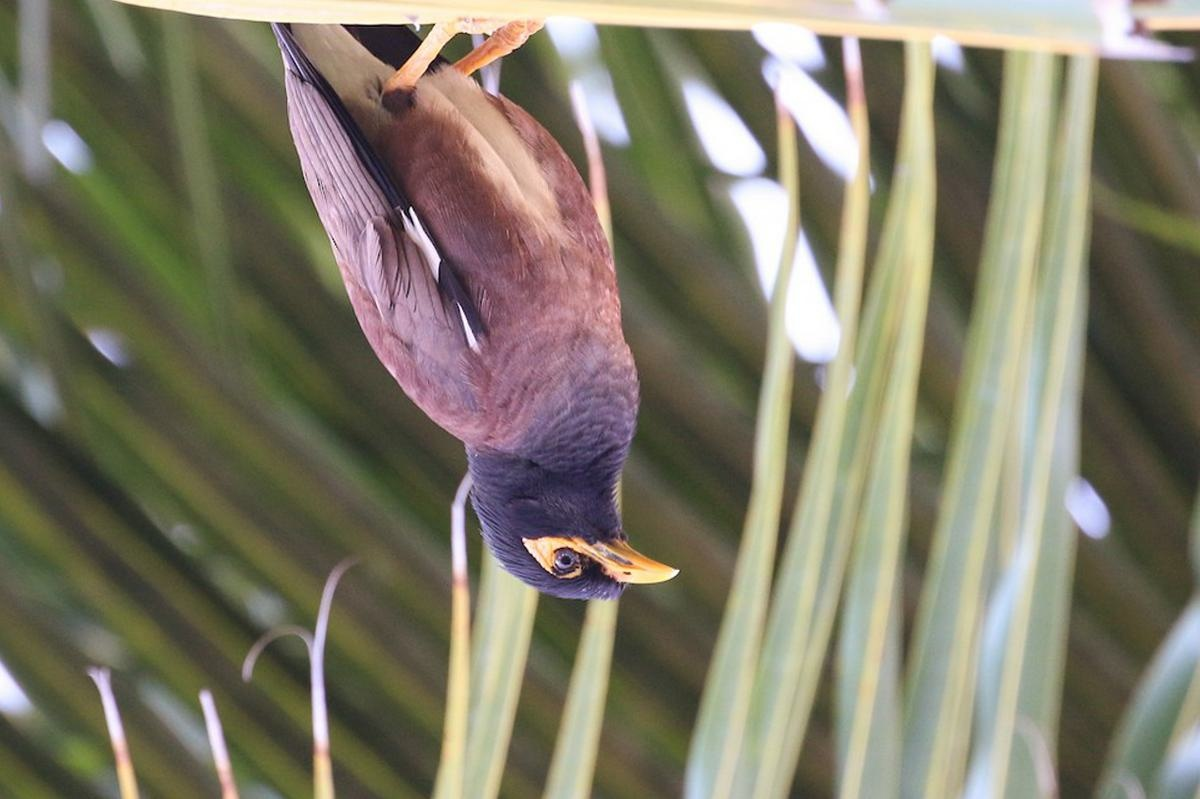myna: (298, 30, 716, 669)
